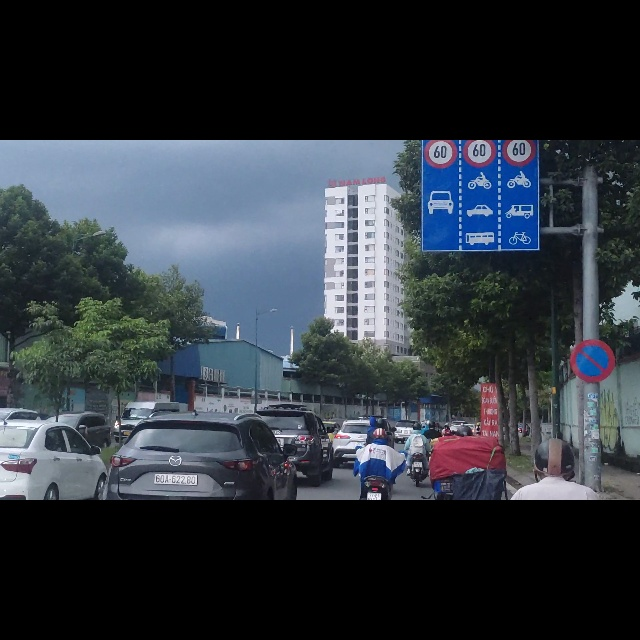bien_chi_dan: (422, 51, 539, 196), (571, 354, 614, 434), (422, 1, 458, 51), (462, 1, 497, 47), (502, 1, 537, 46)
